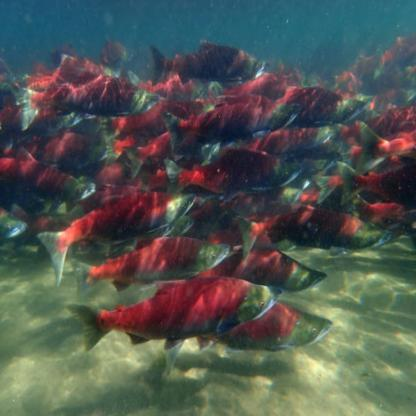sockeye: (79, 279, 274, 361), (144, 90, 359, 158), (50, 196, 200, 258), (84, 226, 229, 281), (200, 231, 323, 286), (173, 149, 304, 191), (4, 154, 90, 214), (21, 82, 160, 119), (273, 206, 399, 245), (158, 45, 280, 80), (363, 120, 416, 193)
sockeye-group: (0, 40, 408, 279)
